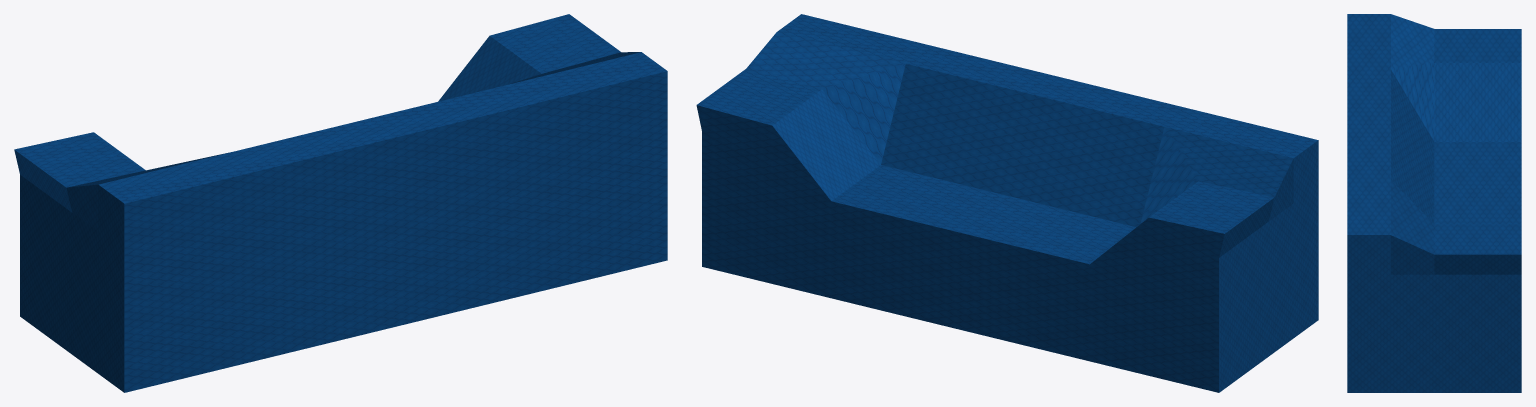
File: sofaTEST.gltf
3 views of the same model, side by side, from view 1: azimuth 30°, elevation 25°; view 2: azimuth 150°, elevation 25°; view 3: azimuth 270°, elevation 25° (orthographic). The views are drawn at different scales.
Visible parts, largest first — view 1: Cube; view 2: Cube; view 3: Cube.
Boxes of the visible parts, left/top/right/bottom form: Cube: left=14, top=14, right=667, bottom=392; Cube: left=696, top=14, right=1318, bottom=392; Cube: left=1347, top=14, right=1521, bottom=392.
Size of the model in its own units: 6.14 by 2 by 2.
1 material, 1 textured.
